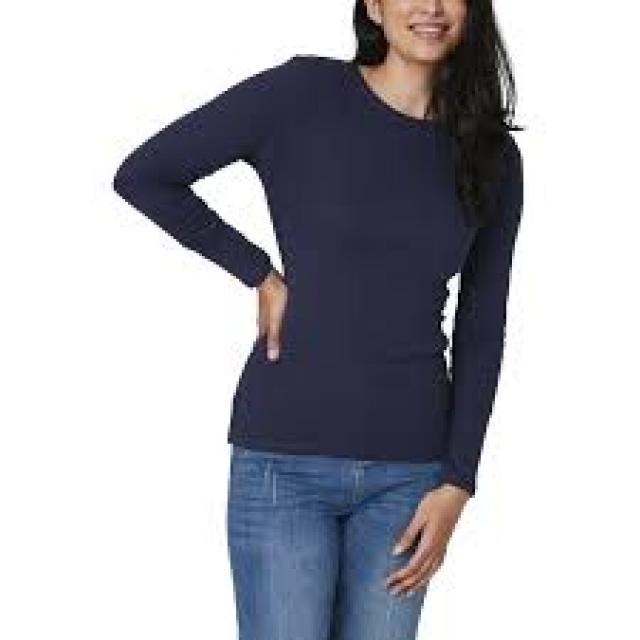plain: (85, 21, 570, 489)
